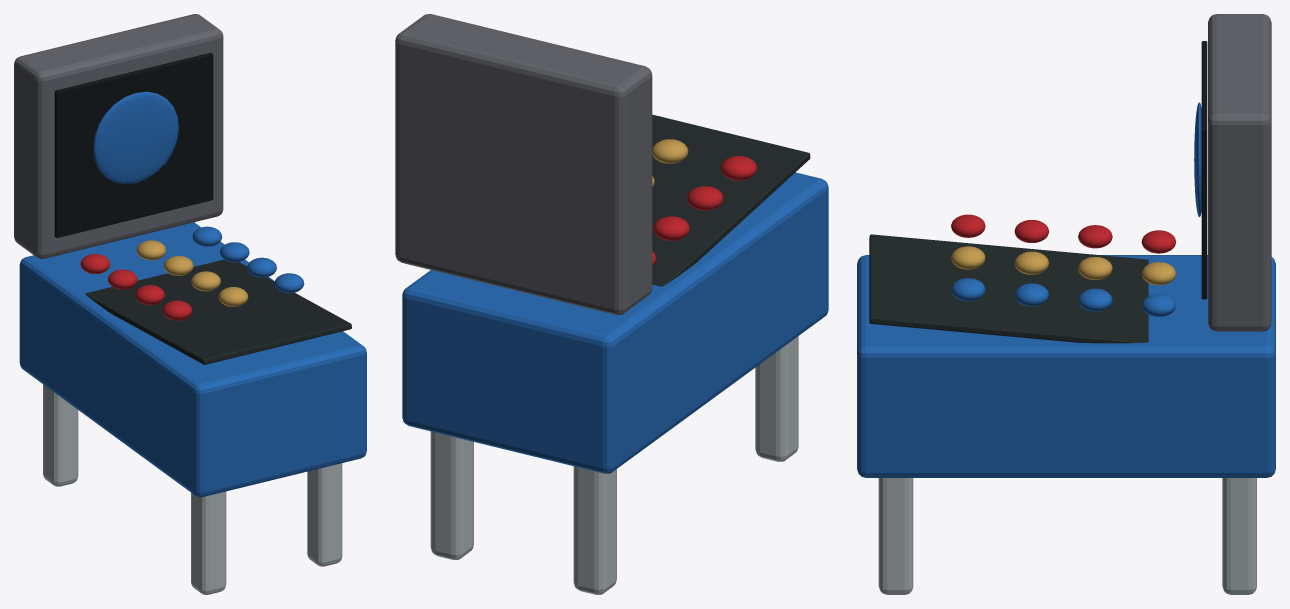
The model's file is best.glb.
3 renders of one model, left to right at view 1: azimuth 30°, elevation 25°; view 2: azimuth 150°, elevation 25°; view 3: azimuth 270°, elevation 25°, orthographic. The views are drawn at different scales.
Visible parts, largest first — view 1: Bumper.002, Backbox, Backglass, Playfield, Leg, Bumper, Bumper.001; view 2: Bumper.002, Backbox, Leg, Playfield, Bumper, Bumper.001; view 3: Bumper.002, Playfield, Backbox, Leg, Bumper.001, Bumper, Backglass.
Boxes of the visible parts, box(x1,y1,x2,y2) form: Bumper.002: box(19, 91, 366, 497); Backbox: box(14, 14, 223, 258); Backglass: box(54, 52, 213, 237); Playfield: box(85, 259, 351, 364); Leg: box(43, 384, 342, 594); Bumper: box(80, 254, 192, 320); Bumper.001: box(136, 240, 248, 306); Bumper.002: box(402, 172, 828, 473); Backbox: box(395, 14, 652, 315); Leg: box(430, 336, 798, 594); Playfield: box(652, 114, 810, 286); Bumper: box(652, 156, 756, 265); Bumper.001: box(652, 139, 688, 186); Bumper.002: box(857, 102, 1275, 477); Playfield: box(869, 234, 1148, 343); Backbox: box(1208, 14, 1271, 331); Leg: box(878, 478, 1256, 594); Bumper.001: box(951, 246, 1176, 285); Bumper: box(951, 214, 1175, 253); Backglass: box(1201, 41, 1207, 299).
Bounding box in the file's own units: 0.6 × 1.3 × 1.
